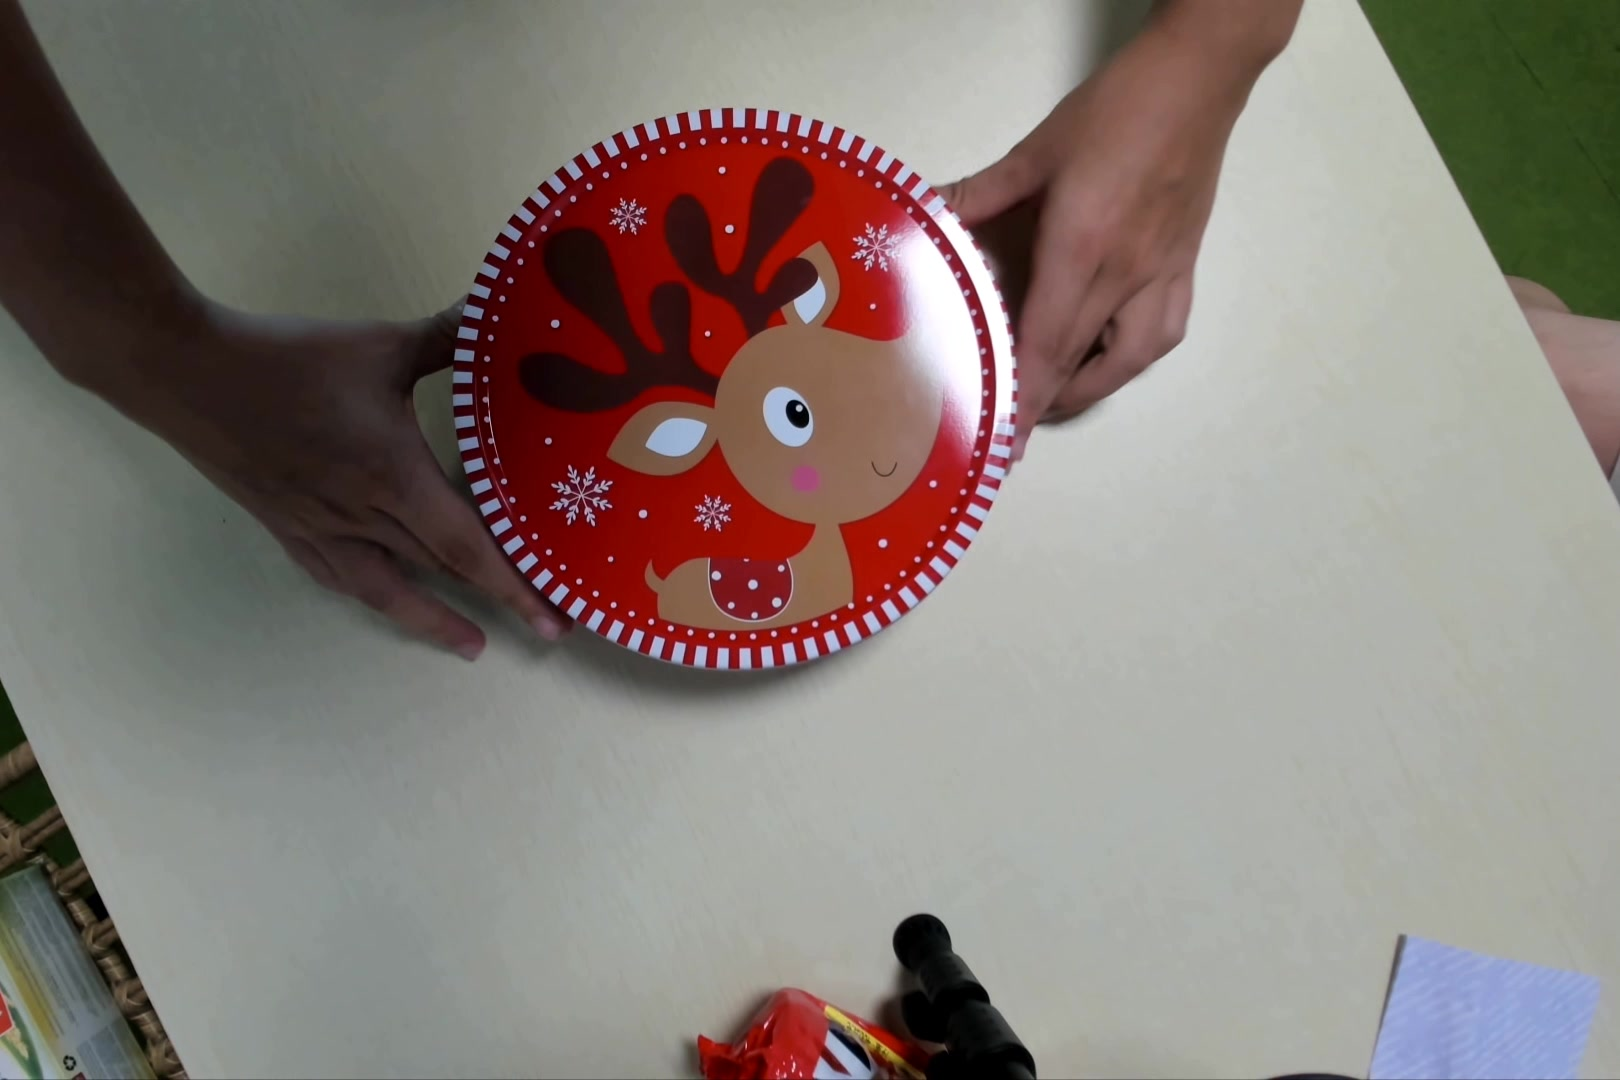BiscuitsCrackersCookies_400-499g_NonHalal_NonHealthy: (456, 95, 1019, 673)
